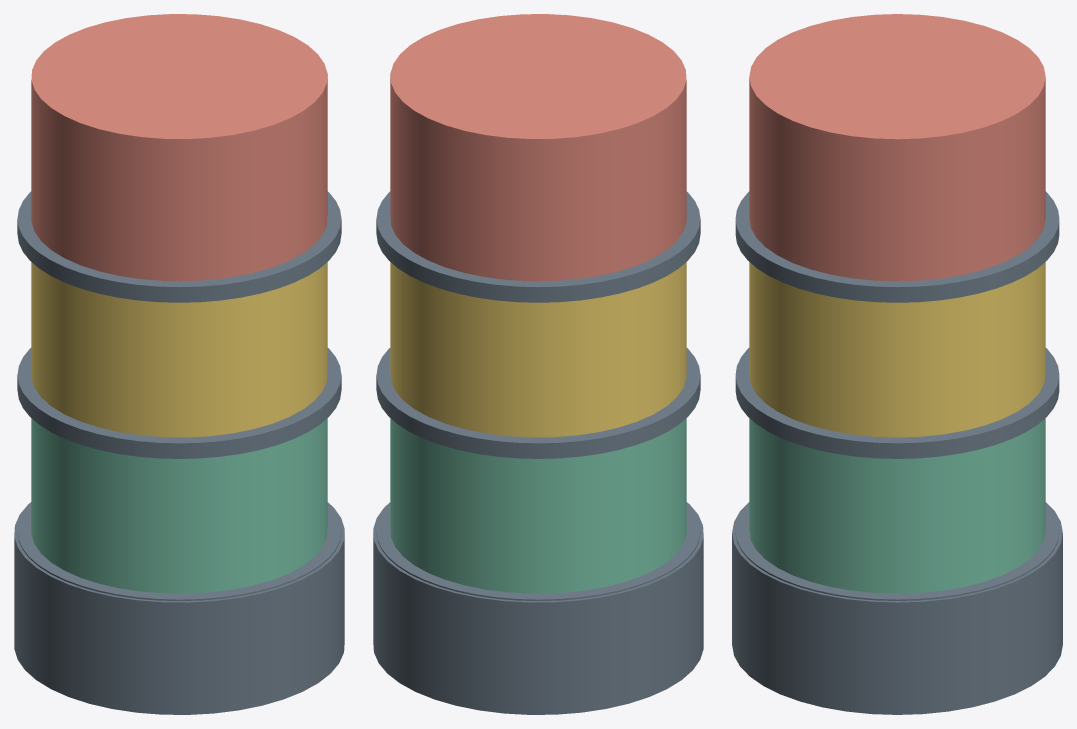
Rendered from ALARM.glb.
3 views of the same model, side by side, from view 1: azimuth 30°, elevation 25°; view 2: azimuth 150°, elevation 25°; view 3: azimuth 270°, elevation 25° (orthographic).
Visible parts, largest first — view 1: ALARM/0005_status_lens, ALARM/0003_status_lens, ALARM/0001_status_lens, ALARM/0000_cylinder, ALARM/0004_ring, ALARM/0006_ring, ALARM/0002_ring; view 2: ALARM/0005_status_lens, ALARM/0003_status_lens, ALARM/0001_status_lens, ALARM/0000_cylinder, ALARM/0004_ring, ALARM/0006_ring, ALARM/0002_ring; view 3: ALARM/0005_status_lens, ALARM/0003_status_lens, ALARM/0001_status_lens, ALARM/0000_cylinder, ALARM/0006_ring, ALARM/0004_ring, ALARM/0002_ring.
Boxes of the visible parts, left/top/right/bottom form: ALARM/0005_status_lens: left=31, top=14, right=327, bottom=281; ALARM/0003_status_lens: left=31, top=262, right=327, bottom=437; ALARM/0001_status_lens: left=31, top=418, right=327, bottom=593; ALARM/0000_cylinder: left=14, top=502, right=344, bottom=714; ALARM/0004_ring: left=17, top=348, right=341, bottom=458; ALARM/0006_ring: left=17, top=191, right=341, bottom=302; ALARM/0002_ring: left=17, top=504, right=341, bottom=600; ALARM/0005_status_lens: left=390, top=14, right=686, bottom=281; ALARM/0003_status_lens: left=390, top=262, right=686, bottom=437; ALARM/0001_status_lens: left=390, top=418, right=686, bottom=593; ALARM/0000_cylinder: left=373, top=502, right=703, bottom=714; ALARM/0004_ring: left=376, top=348, right=700, bottom=458; ALARM/0006_ring: left=376, top=191, right=700, bottom=302; ALARM/0002_ring: left=376, top=504, right=700, bottom=600; ALARM/0005_status_lens: left=749, top=14, right=1045, bottom=281; ALARM/0003_status_lens: left=749, top=262, right=1045, bottom=437; ALARM/0001_status_lens: left=749, top=418, right=1045, bottom=593; ALARM/0000_cylinder: left=732, top=502, right=1062, bottom=714; ALARM/0006_ring: left=735, top=191, right=1059, bottom=302; ALARM/0004_ring: left=735, top=348, right=1059, bottom=458; ALARM/0002_ring: left=735, top=504, right=1059, bottom=600.
Size of the model in its own units: 0.0768 by 0.1456 by 0.0768.
